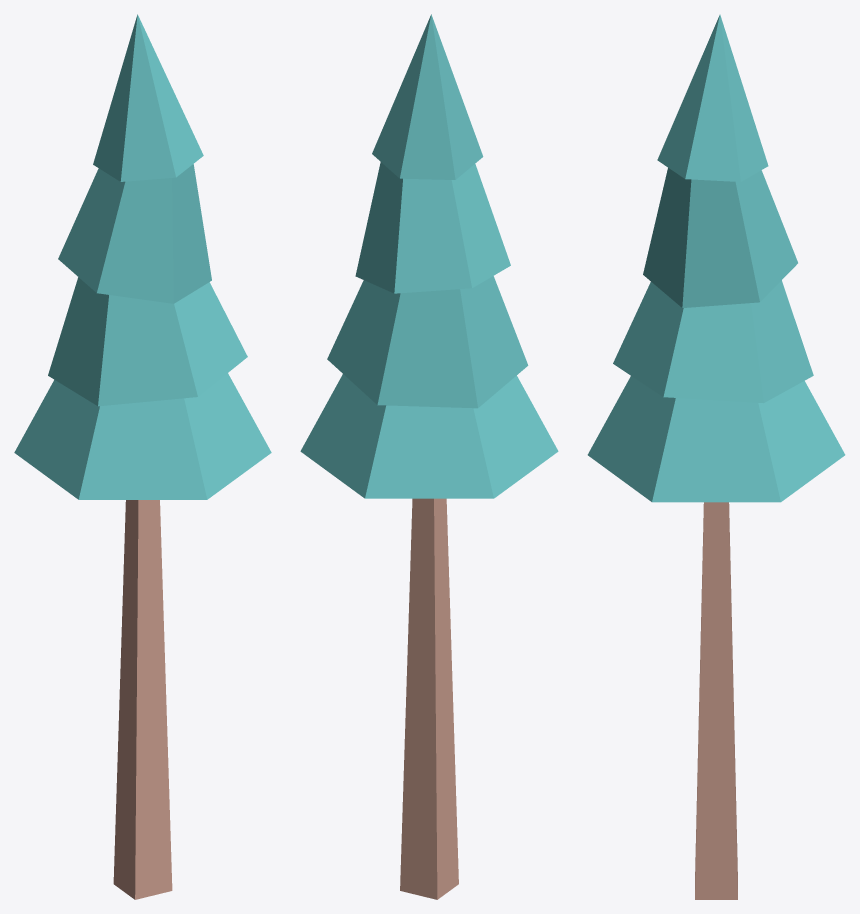
File: tree_pineTallD.glb
3 views of the same model, side by side, from view 1: azimuth 30°, elevation 25°; view 2: azimuth 150°, elevation 25°; view 3: azimuth 270°, elevation 25° (orthographic).
Parts seen in each view (by area): view 1: tree_pineTallD; view 2: tree_pineTallD; view 3: tree_pineTallD.
Part boxes in pixels (x1=…): tree_pineTallD: x1=14, y1=14, x2=271, y2=899; tree_pineTallD: x1=300, y1=14, x2=558, y2=899; tree_pineTallD: x1=587, y1=14, x2=845, y2=899.
Size of the model in its own units: 0.4804 by 2.08 by 0.5547.
